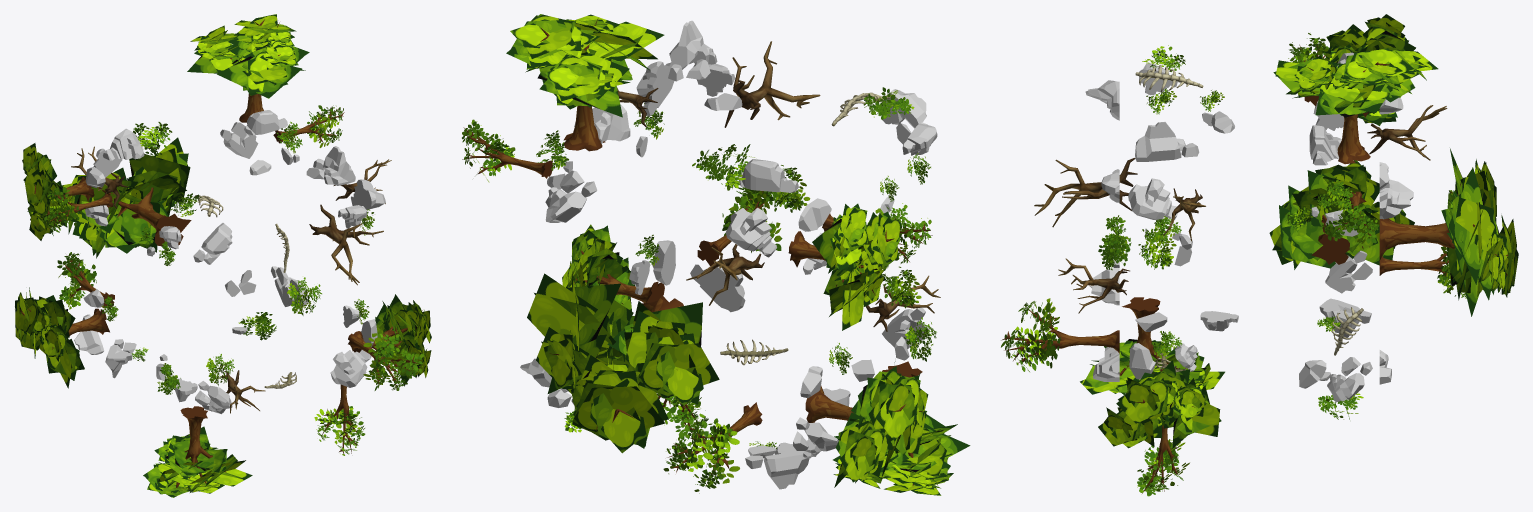
Rendered from trees.fbx.
The picture shows the model from 3 angles, left to right: view 1: azimuth 30°, elevation 25°; view 2: azimuth 150°, elevation 25°; view 3: azimuth 270°, elevation 25°; orthographic projection. The views are drawn at different scales.
Visible parts, largest first — view 1: Empty_assets, Cylinder.007, Cylinder.008, Cylinder.003, Cylinder.001, Cylinder.002, Cylinder.006, Mudlands_Tree.025, Mudlands_Tree.013, Mudlands_Tree.018, Mudlands_Tree.001, Cube.021 (+11 smaller); view 2: Cylinder.007, Empty_assets, Cylinder.008, Cylinder.001, Cylinder.002, Cylinder.003, Cylinder.006, Mudlands_Tree.018, Mudlands_Tree.016, Cube.021, Cube.015, Mudlands_Tree.025 (+17 smaller); view 3: Empty_assets, Cylinder.007, Cylinder.008, Cylinder.001, Cylinder.006, Mudlands_Tree.025, Cylinder.003, Cylinder.002, Mudlands_Tree.013, Cube.021, Mudlands_Tree.016, Cube.010 (+14 smaller).
Part boxes in pixels (x1,y1,x2,y2): Empty_assets: [74, 122, 377, 414]; Cylinder.007: [62, 137, 191, 258]; Cylinder.008: [187, 14, 309, 122]; Cylinder.003: [143, 406, 252, 497]; Cylinder.001: [15, 287, 109, 388]; Cylinder.002: [22, 143, 94, 240]; Cylinder.006: [353, 294, 431, 386]; Mudlands_Tree.025: [348, 331, 424, 390]; Mudlands_Tree.013: [314, 384, 365, 455]; Mudlands_Tree.018: [57, 252, 114, 309]; Mudlands_Tree.001: [42, 185, 112, 232]; Cube.021: [309, 204, 383, 285]; Cylinder.007: [527, 271, 719, 453]; Empty_assets: [520, 20, 929, 489]; Cylinder.008: [506, 14, 664, 151]; Cylinder.001: [805, 361, 928, 487]; Cylinder.002: [788, 203, 901, 330]; Cylinder.003: [833, 361, 970, 495]; Cylinder.006: [562, 224, 664, 316]; Mudlands_Tree.018: [663, 402, 762, 493]; Mudlands_Tree.016: [462, 119, 552, 182]; Cube.021: [724, 41, 820, 127]; Cube.015: [725, 207, 776, 257]; Mudlands_Tree.025: [697, 187, 782, 265]; Empty_assets: [1085, 80, 1413, 402]; Cylinder.007: [1379, 148, 1518, 316]; Cylinder.008: [1273, 48, 1438, 164]; Cylinder.001: [1269, 160, 1414, 269]; Cylinder.006: [1098, 360, 1221, 448]; Mudlands_Tree.025: [1001, 298, 1119, 371]; Cylinder.003: [1080, 297, 1224, 394]; Cylinder.002: [1325, 14, 1415, 125]; Mudlands_Tree.013: [1137, 425, 1189, 496]; Cube.021: [1034, 158, 1137, 227]; Mudlands_Tree.016: [1320, 191, 1379, 243]; Cube.010: [1128, 178, 1177, 219].
Size of the model in its own units: 9103 by 9796 by 10386.
